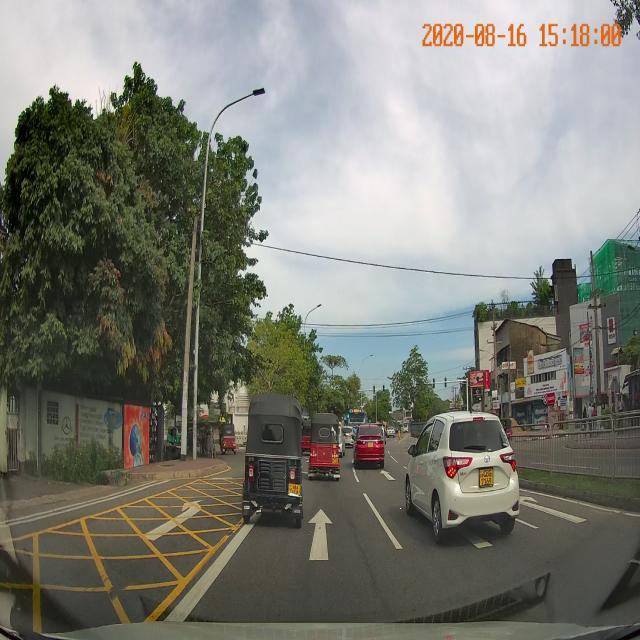forward: (287, 501, 411, 570)
